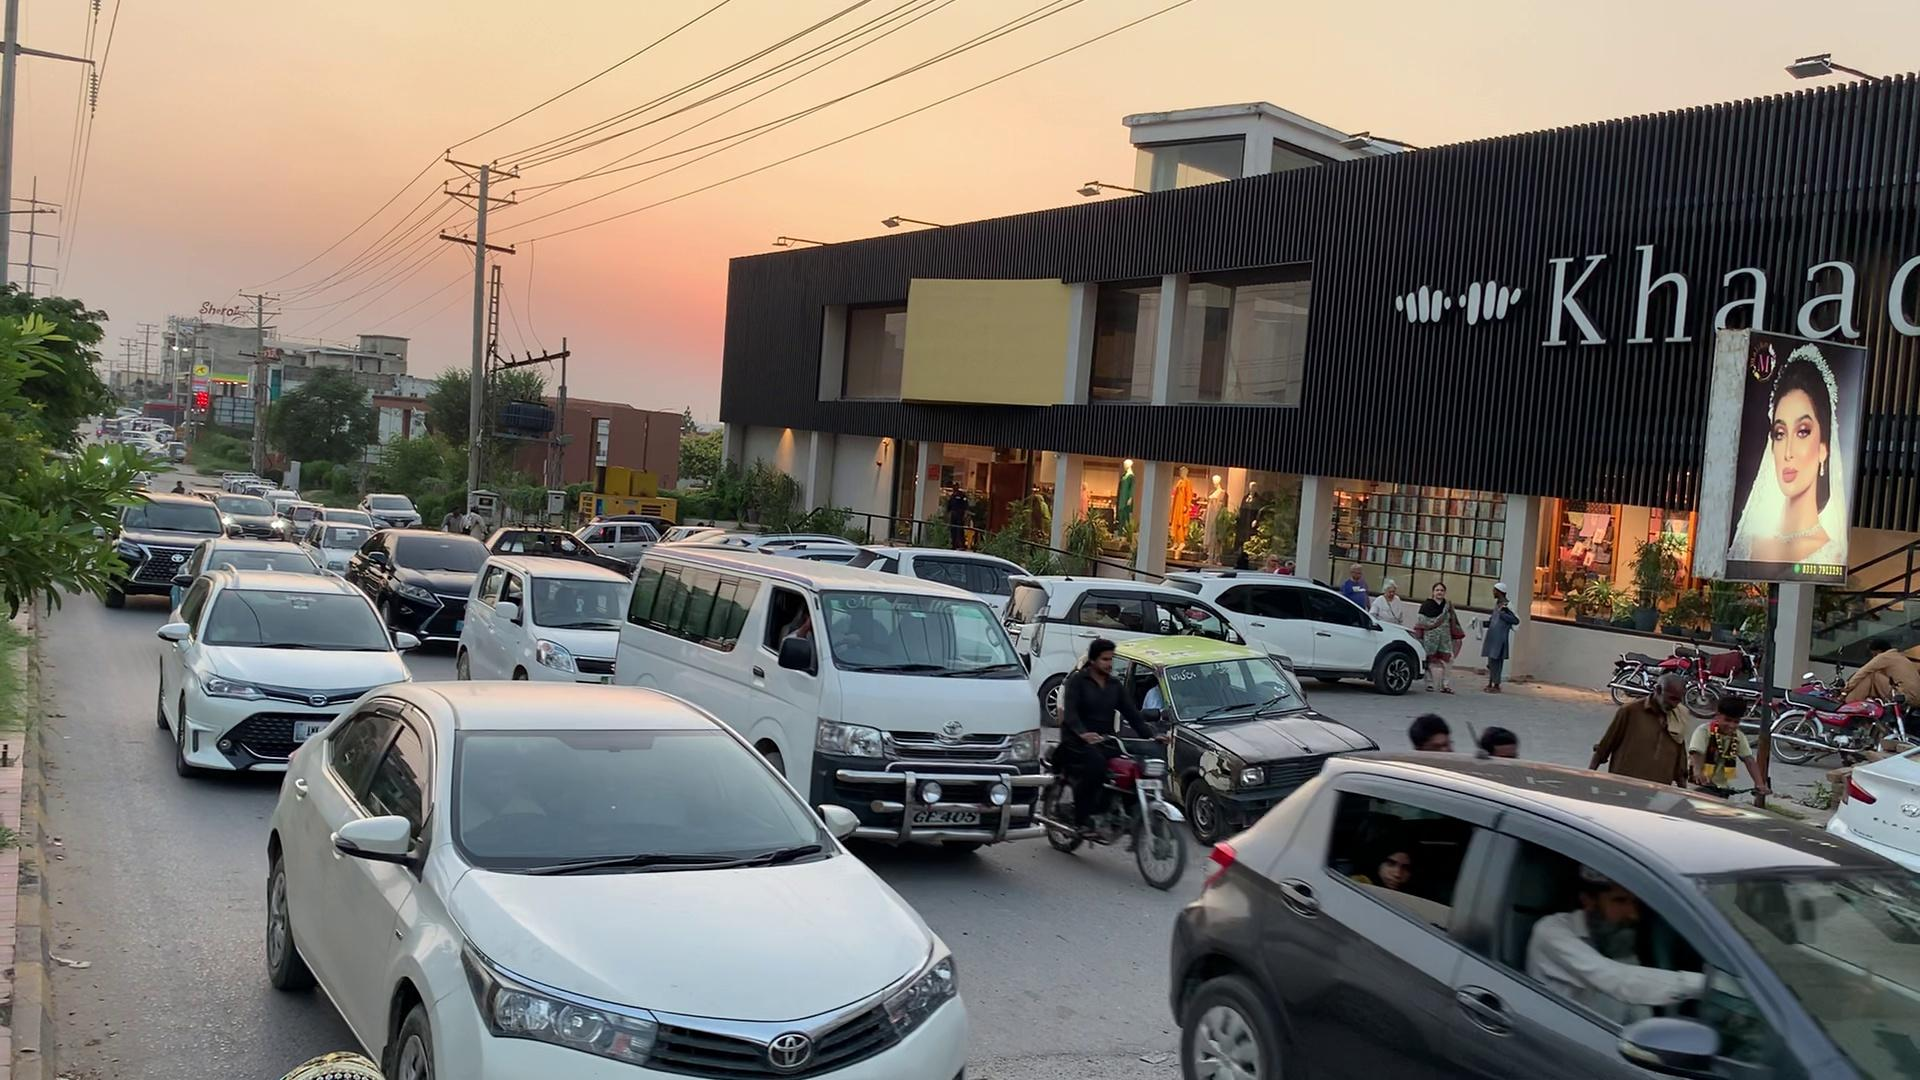windshield: (434, 707, 844, 873), (815, 579, 1039, 687), (198, 587, 394, 653)
